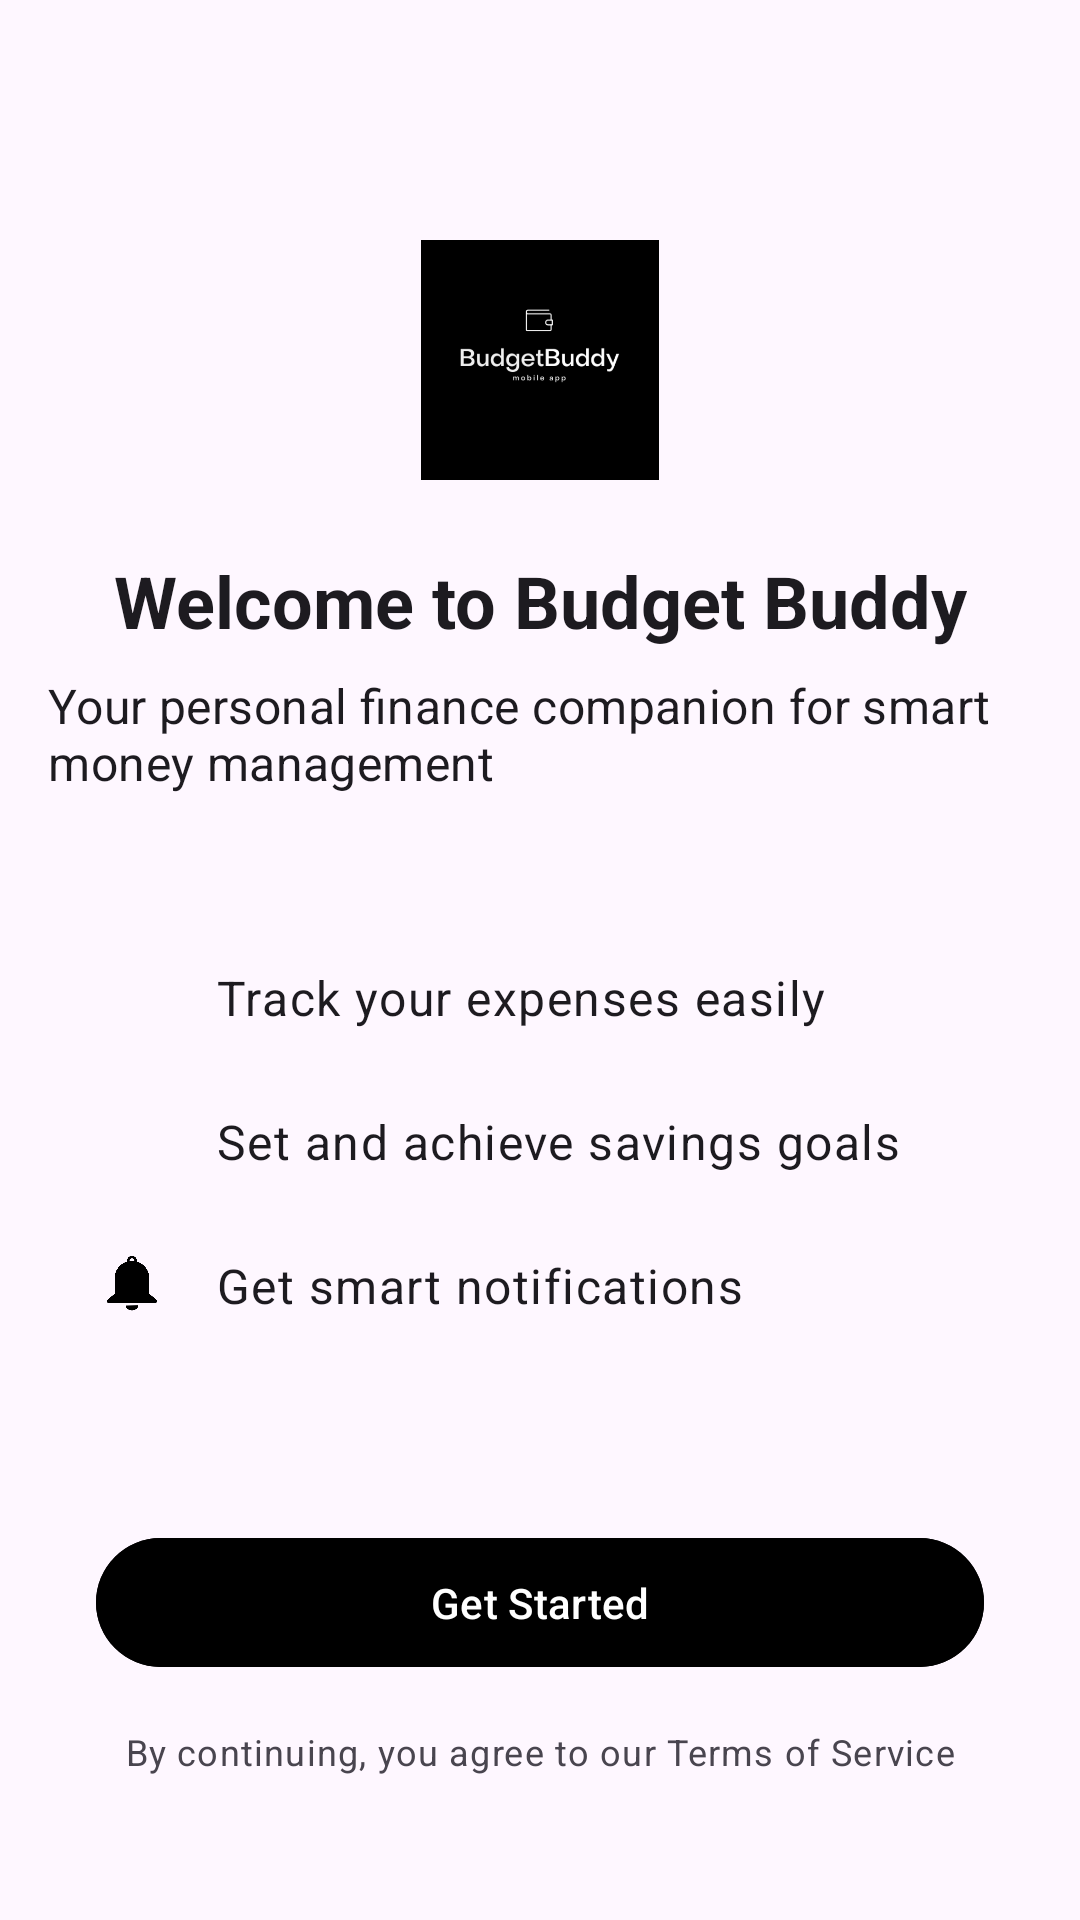

Screen size 1080px×1920px. Icon name, then its center in pixels as point (x, y):
feature notifications: point (132, 1283)
